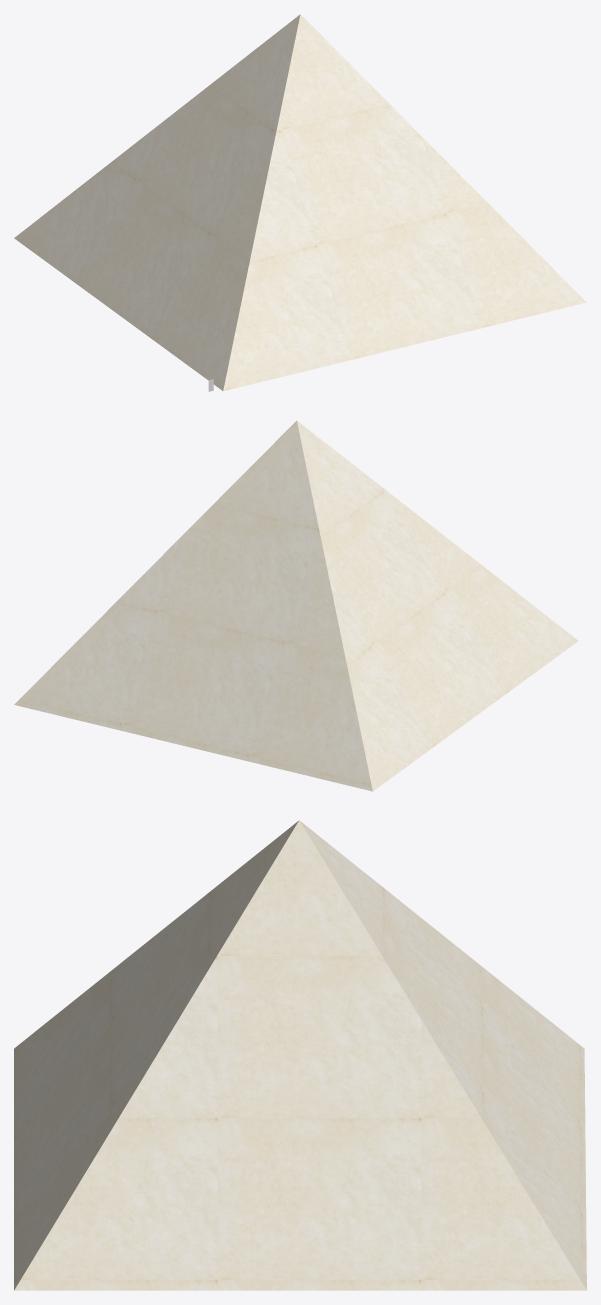
File: Lepsius29.glb
3 renders of one model, top to bottom at view 1: azimuth 30°, elevation 25°; view 2: azimuth 150°, elevation 25°; view 3: azimuth 270°, elevation 25°, orthographic. The views are drawn at different scales.
Parts seen in each view (by area): view 1: Mesh1 Model; view 2: Mesh1 Model; view 3: Mesh1 Model.
Boxes of the visible parts, box(x1,y1,x2,y2) form: Mesh1 Model: box(14, 14, 586, 391); Mesh1 Model: box(14, 420, 578, 791); Mesh1 Model: box(14, 820, 586, 1290).
Bounding box in the file's own units: 53.63 × 35 × 52.
Materials: 2 (2 with a texture image).
